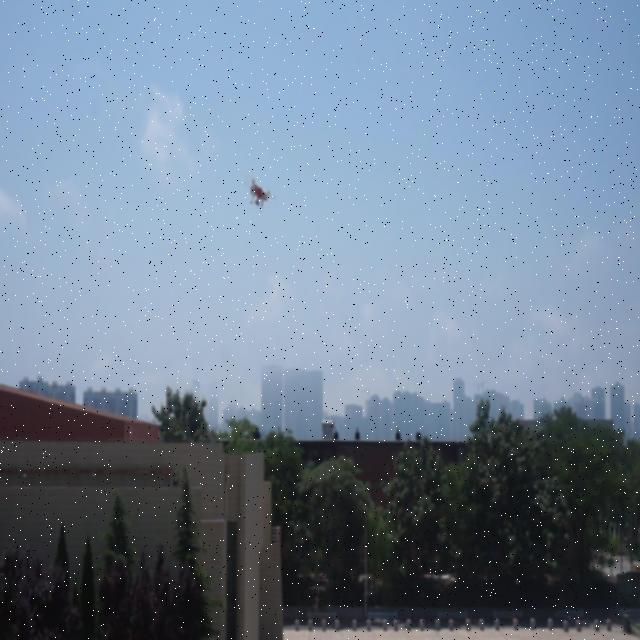UAV: (244, 173, 276, 212)
